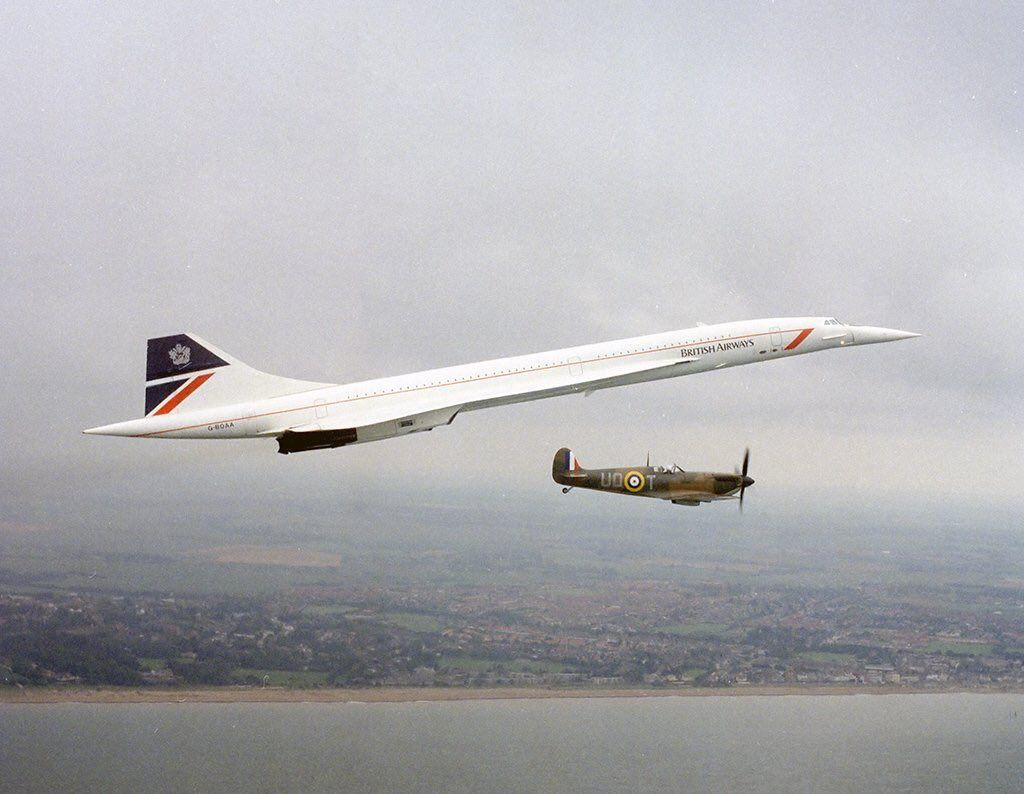Aeronef_commercial: (77, 307, 961, 467)
Aeronef_militaire: (548, 442, 774, 529)
